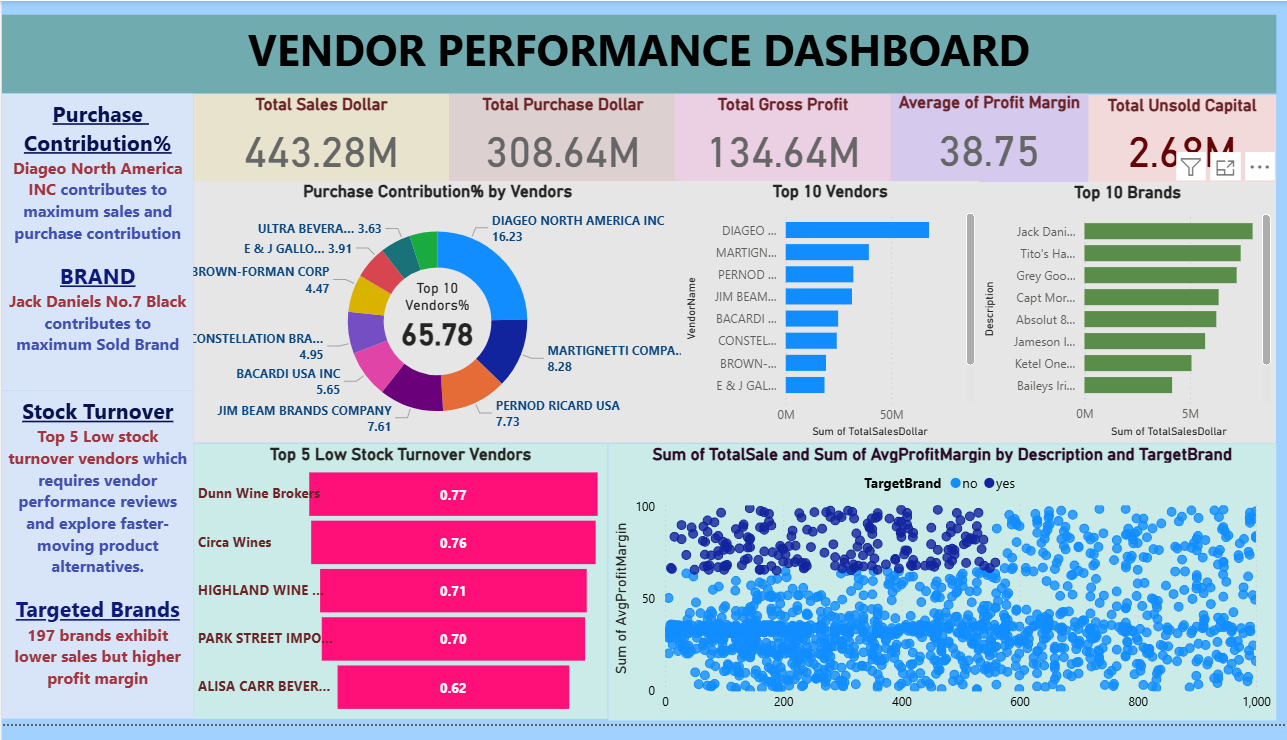

This screenshot's page, from the dashboard's own definition file:
{"tool":"powerbi","page":{"name":"Page 1","canvas":[1280,720],"ordinal":0},"visuals":[{"type":"card","title":"Total Sales Dollar","fields":{"Values":["Sum(Vendor_Sales_Summary_Cleaned.TotalSalesDollar)"]},"box":[190.8,91.7,255.6,88],"z":0},{"type":"card","title":"Total Purchase Dollar","fields":{"Values":["Sum(Vendor_Sales_Summary_Cleaned.TotalPurchaseDollar)"]},"box":[446.3,91.7,226.2,88],"z":1000},{"type":"card","title":"Total Gross Profit","fields":{"Values":["Sum(Vendor_Sales_Summary_Cleaned.GrossProfit)"]},"box":[670.1,91.7,216.4,89.3],"z":2000},{"type":"card","title":"Average of Profit Margin","fields":{"Values":["Avg(Vendor_Sales_Summary_Cleaned.ProfitMargin)"]},"box":[885.9,91.2,196.9,89.3],"z":3000},{"type":"card","title":"Total Unsold Capital","fields":{"Values":["Sum(Vendor_Sales_Summary_Cleaned.UnsoldCapital)"]},"box":[1082.2,92.9,187.1,86.8],"z":4000},{"type":"donutChart","title":"Purchase Contribution% by Vendors","fields":{"Category":["PurchaseContribution.VendorName"],"Y":["Sum(PurchaseContribution.PurchaseContribution%)"]},"box":[190.7,179.8,487.1,260.7],"z":5000},{"type":"barChart","title":"Top 10 Vendors","fields":{"Category":["Vendor_Sales_Summary_Cleaned.VendorName"],"Y":["Sum(Vendor_Sales_Summary_Cleaned.TotalSalesDollar)"]},"box":[676.5,179.8,297.8,260.7],"z":6000},{"type":"barChart","title":"Top 10 Brands","fields":{"Y":["Sum(Vendor_Sales_Summary_Cleaned.TotalSalesDollar)"],"Category":["Vendor_Sales_Summary_Cleaned.Description"]},"box":[974.3,181.1,295,259.3],"z":7000},{"type":"funnel","title":"Top 5 Low Stock Turnover Vendors","fields":{"Category":["LowStockTurnover.VendorName"],"Y":["Sum(LowStockTurnover.Avg StockTurnOver)"]},"box":[190.7,440.5,413,274.4],"z":8000},{"type":"scatterChart","fields":{"Category":["BrandPerformance.Description"],"X":["Sum(BrandPerformance.TotalSale)"],"Y":["Sum(BrandPerformance.AvgProfitMargin)"],"Series":["BrandPerformance.TargetBrand"]},"box":[603.8,440.5,665.5,275.8],"z":9000},{"type":"card","title":"Top 10 Vendors%","fields":{"Values":["Sum(PurchaseContribution.PurchaseContribution%)"]},"box":[379.1,277.6,110.1,72.1],"z":10000},{"type":"textbox","box":[0,13.5,1269.3,78.3],"z":11000},{"type":"textbox","box":[0,91.9,190.7,296.4],"z":12000},{"type":"textbox","box":[0,388.3,190.7,326.6],"z":13000}]}

Visuals, with their boxes in screenshot pixels (x1, y1, x2, y2), scaled from the page's 1280x720 canvas onto the 1287x740 screenshot:
"Total Sales Dollar" card: (x1=192, y1=94, x2=449, y2=185)
"Total Purchase Dollar" card: (x1=449, y1=94, x2=676, y2=185)
"Total Gross Profit" card: (x1=674, y1=94, x2=891, y2=186)
"Average of Profit Margin" card: (x1=891, y1=94, x2=1089, y2=186)
"Total Unsold Capital" card: (x1=1088, y1=95, x2=1276, y2=185)
"Purchase Contribution% by Vendors" donutChart: (x1=192, y1=185, x2=682, y2=453)
"Top 10 Vendors" barChart: (x1=680, y1=185, x2=980, y2=453)
"Top 10 Brands" barChart: (x1=980, y1=186, x2=1276, y2=453)
"Top 5 Low Stock Turnover Vendors" funnel: (x1=192, y1=453, x2=607, y2=735)
scatterChart - BrandPerformance.Description x Sum(BrandPerformance.TotalSale): (x1=607, y1=453, x2=1276, y2=736)
"Top 10 Vendors%" card: (x1=381, y1=285, x2=492, y2=359)
textbox: (x1=0, y1=14, x2=1276, y2=94)
textbox: (x1=0, y1=94, x2=192, y2=399)
textbox: (x1=0, y1=399, x2=192, y2=735)
